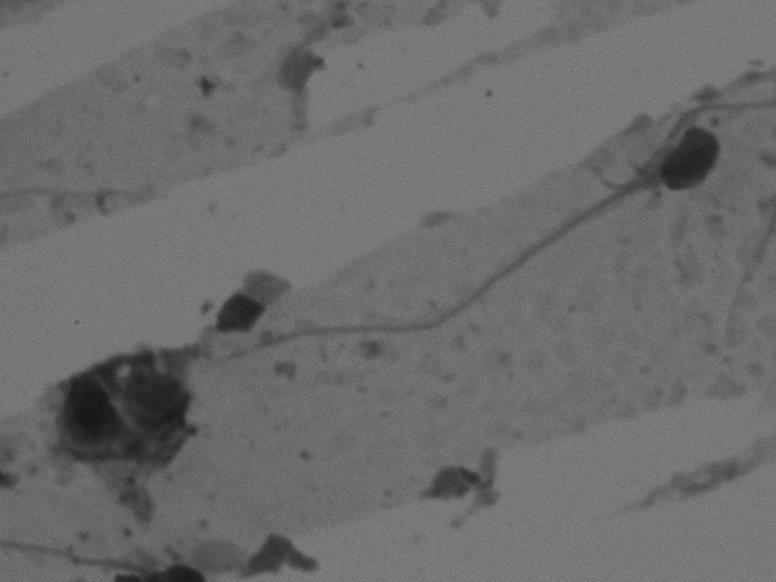Abnormal: (192, 106, 741, 421)
